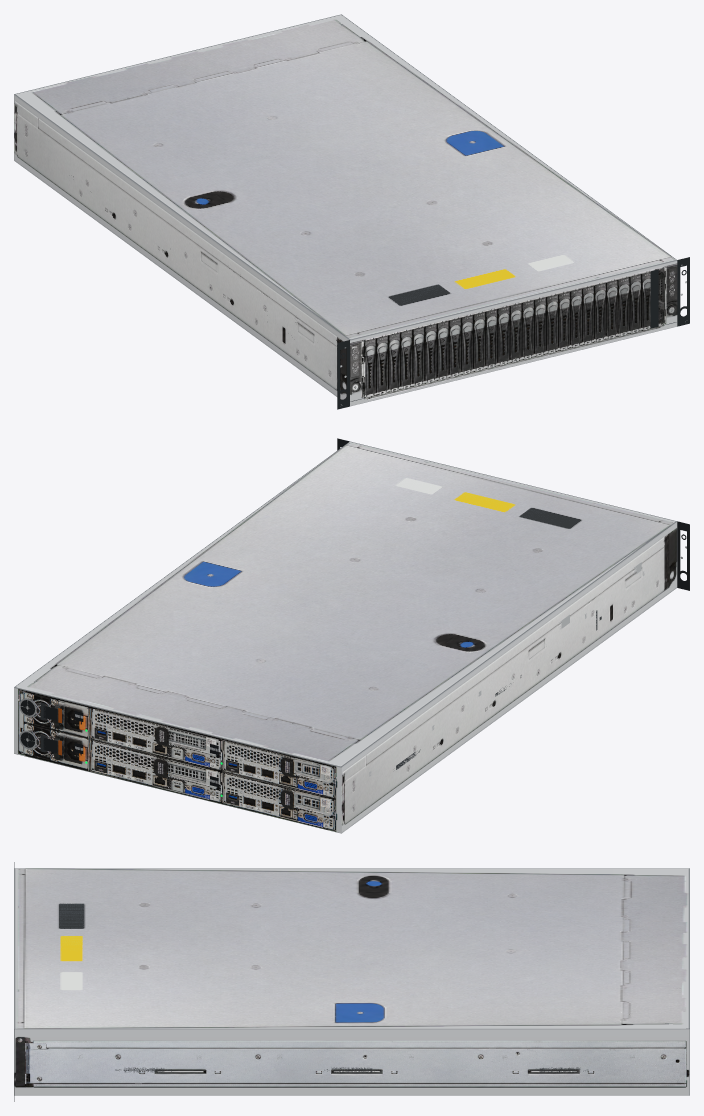
File: Dell-PowerEdge-C6300-4xC6320-24SFF-web.glb
3 renders of one model, top to bottom at view 1: azimuth 30°, elevation 25°; view 2: azimuth 150°, elevation 25°; view 3: azimuth 270°, elevation 25°, orthographic.
Parts seen in each view (by area): view 1: Top_SourceLocked_Texture, Physical_Right_SourceLocked_Texture, Front_SourceLocked_Texture, Front_LeftControl_SourceTexture, Front_RightControl_SourceTexture, SFF_Carrier_10_SourceTexture, SFF_Carrier_22_SourceTexture, SFF_Carrier_18_SourceTexture, SFF_Carrier_04_SourceTexture, SFF_Carrier_11_SourceTexture, SFF_Carrier_14_SourceTexture, SFF_Carrier_15_SourceTexture (+17 smaller); view 2: Top_SourceLocked_Texture, Physical_Right_SourceLocked_Texture, Rear_SourceLocked_Texture; view 3: Top_SourceLocked_Texture, Physical_Left_SourceLocked_Texture, Top_Factory_Label_Block_Black.
Part boxes in pixels (<box>): Top_SourceLocked_Texture: <box>14,14,676,339</box>; Physical_Right_SourceLocked_Texture: <box>14,94,348,399</box>; Front_SourceLocked_Texture: <box>350,260,677,406</box>; Front_LeftControl_SourceTexture: <box>350,341,365,401</box>; Front_RightControl_SourceTexture: <box>662,265,676,325</box>; SFF_Carrier_10_SourceTexture: <box>479,311,490,370</box>; SFF_Carrier_22_SourceTexture: <box>616,278,627,336</box>; SFF_Carrier_18_SourceTexture: <box>570,289,580,348</box>; SFF_Carrier_04_SourceTexture: <box>411,328,421,387</box>; SFF_Carrier_11_SourceTexture: <box>491,309,501,367</box>; SFF_Carrier_14_SourceTexture: <box>526,300,536,359</box>; SFF_Carrier_15_SourceTexture: <box>537,297,547,356</box>; Top_SourceLocked_Texture: <box>14,441,676,766</box>; Physical_Right_SourceLocked_Texture: <box>341,522,677,832</box>; Rear_SourceLocked_Texture: <box>14,687,341,833</box>; Top_SourceLocked_Texture: <box>14,868,689,1028</box>; Physical_Left_SourceLocked_Texture: <box>14,1029,689,1095</box>; Top_Factory_Label_Block_Black: <box>59,903,84,928</box>.
Size of the model in its own units: 482 by 86.8 by 796.
17 materials, 8 textured.
